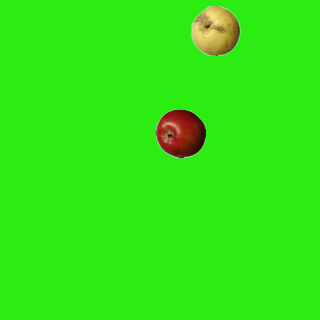Apple Braeburn: (155, 108, 205, 158)
Apple Golden 1: (190, 5, 240, 55)
